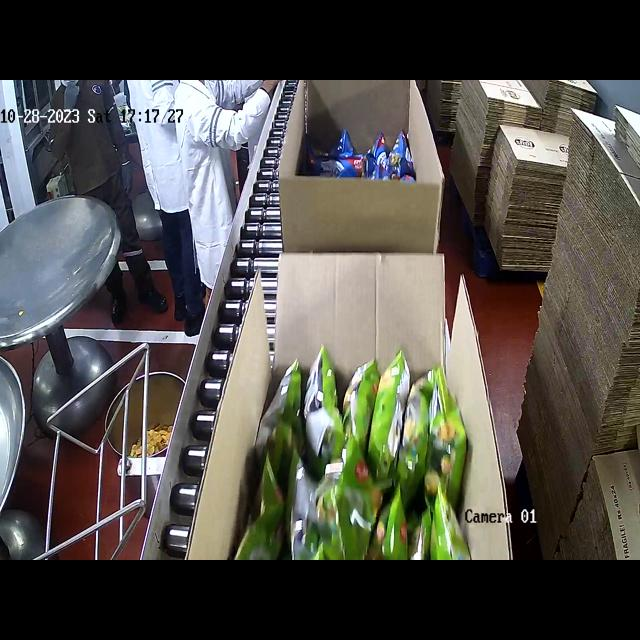paprika: (307, 129, 424, 180)
yogurt: (244, 344, 471, 558)
